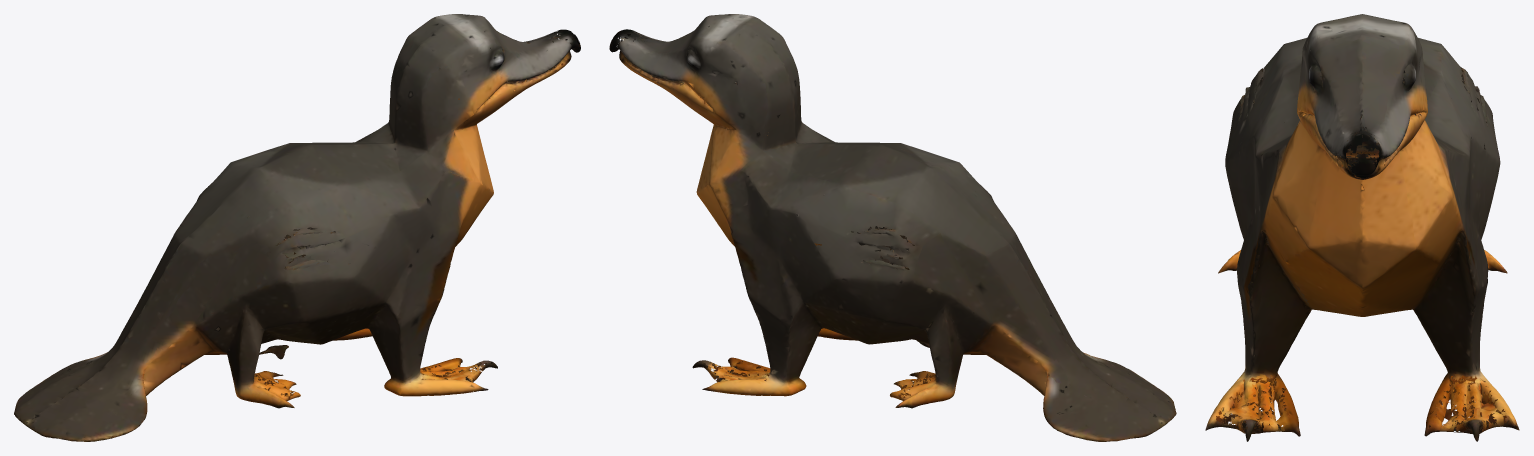
Rendered from oakhaven_platypus.glb.
3 renders of one model, left to right at view 1: azimuth 30°, elevation 25°; view 2: azimuth 150°, elevation 25°; view 3: azimuth 270°, elevation 25°, orthographic. The views are drawn at different scales.
Visible parts, largest first — view 1: Oakhaven_Platypus; view 2: Oakhaven_Platypus; view 3: Oakhaven_Platypus.
Boxes of the visible parts, x1,y1,x2,y2 form: Oakhaven_Platypus: (14,14,580,441); Oakhaven_Platypus: (609,14,1176,441); Oakhaven_Platypus: (1205,14,1519,441).
Size of the model in its own units: 1 by 0.5569 by 0.3669.
Materials: 1 (1 with a texture image).
